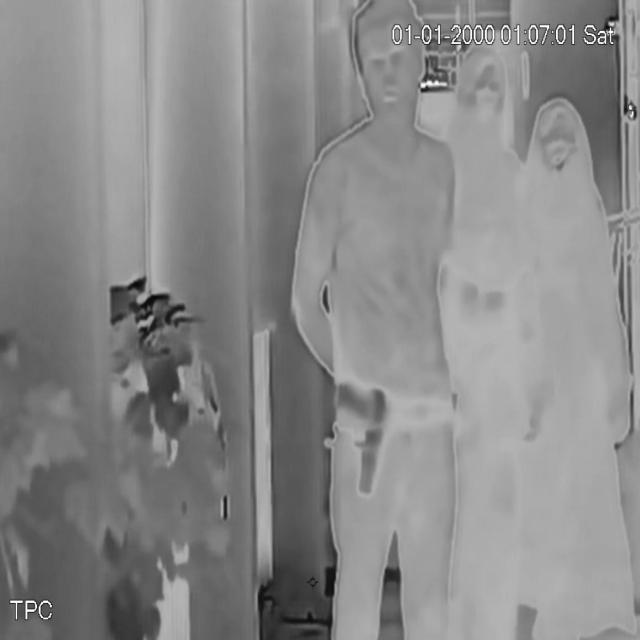Weapon: (332, 372, 401, 504)
